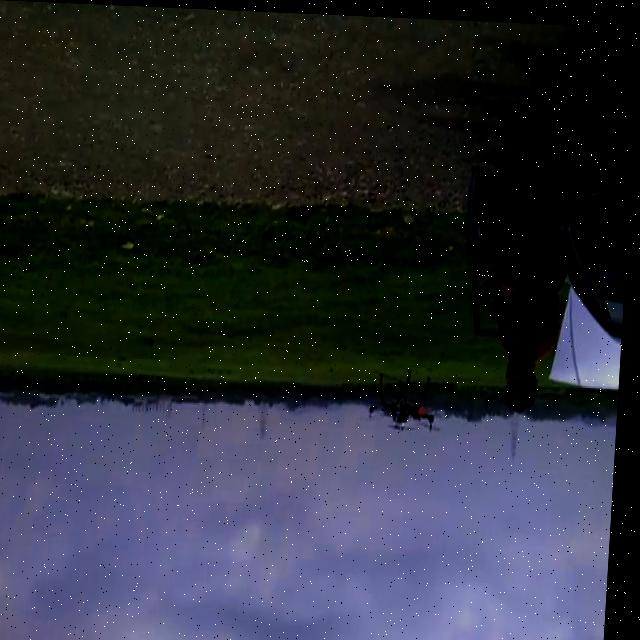drone: (370, 362, 450, 438)
